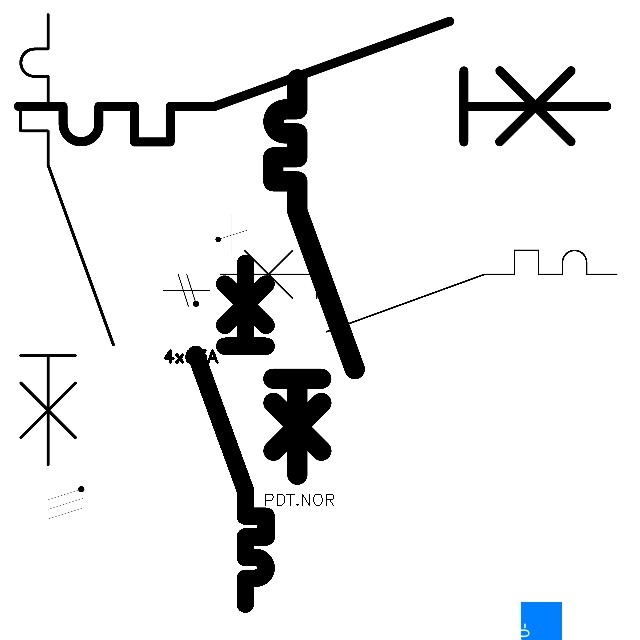interruptor_termomagnetico: (3, 6, 622, 157), (9, 3, 125, 476), (210, 240, 627, 342), (263, 69, 364, 485), (187, 254, 275, 612)
